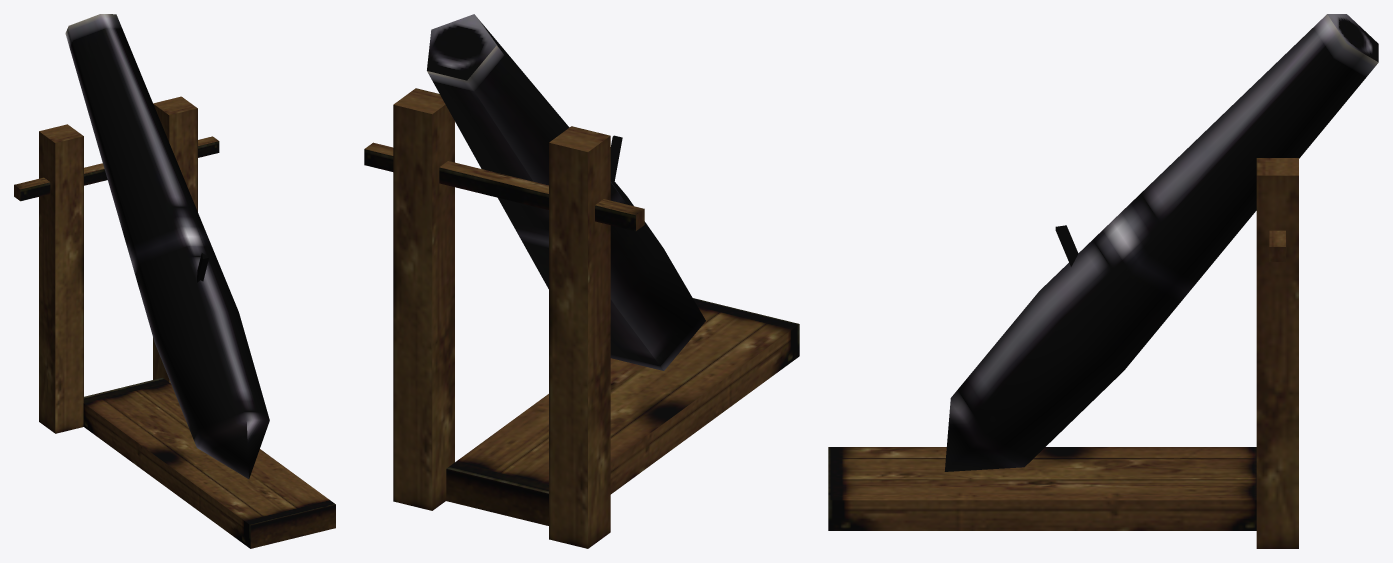
File: Cannon03.obj
The picture shows the model from 3 angles, left to right: view 1: azimuth 30°, elevation 25°; view 2: azimuth 150°, elevation 25°; view 3: azimuth 270°, elevation 25°; orthographic projection. The views are drawn at different scales.
Visible parts, largest first — view 1: Mesh_0; view 2: Mesh_0; view 3: Mesh_0.
Part boxes in pixels (left/top/right/bottom): Mesh_0: left=14, top=14, right=335, bottom=548; Mesh_0: left=364, top=14, right=799, bottom=548; Mesh_0: left=828, top=14, right=1378, bottom=548.
Bounding box in the file's own units: 0.7265 × 1.33 × 1.36.
Materials: 1 (1 with a texture image).
